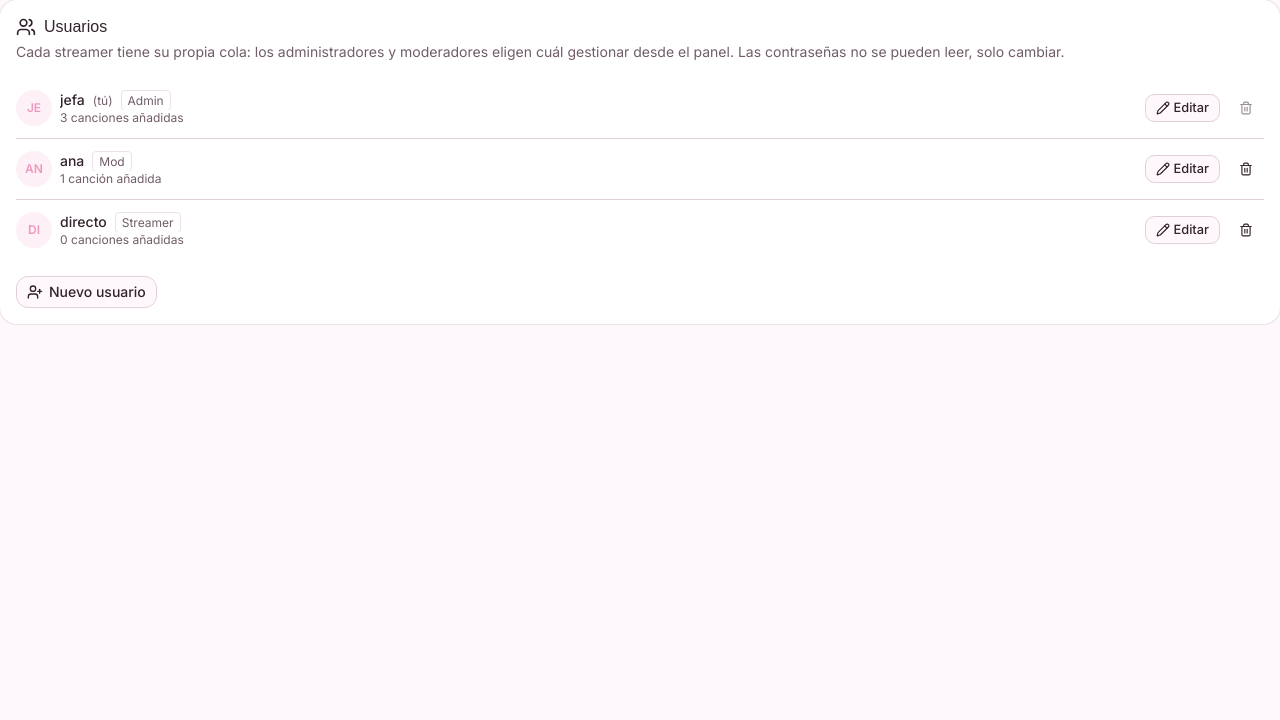
Test case: gestión de usuarios › crea un usuario con el rol elegido y recarga la lista
expect the text "jefa" is shown: met, box [60,91,85,108]
Click the button "Nuevo usuario". click: [86, 292]
box: [16,276,157,308]
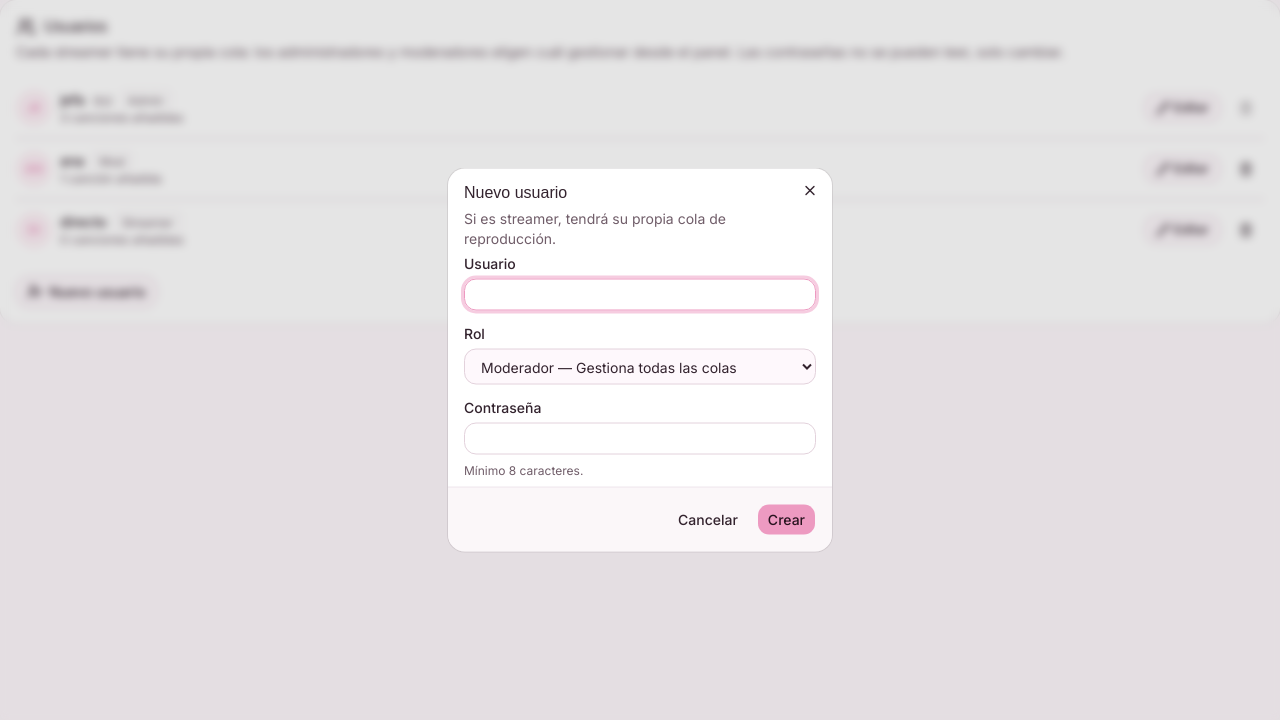
Type "nueva" into the field labelled "Usuario". click: [640, 294]
box: [464,278,816,310]
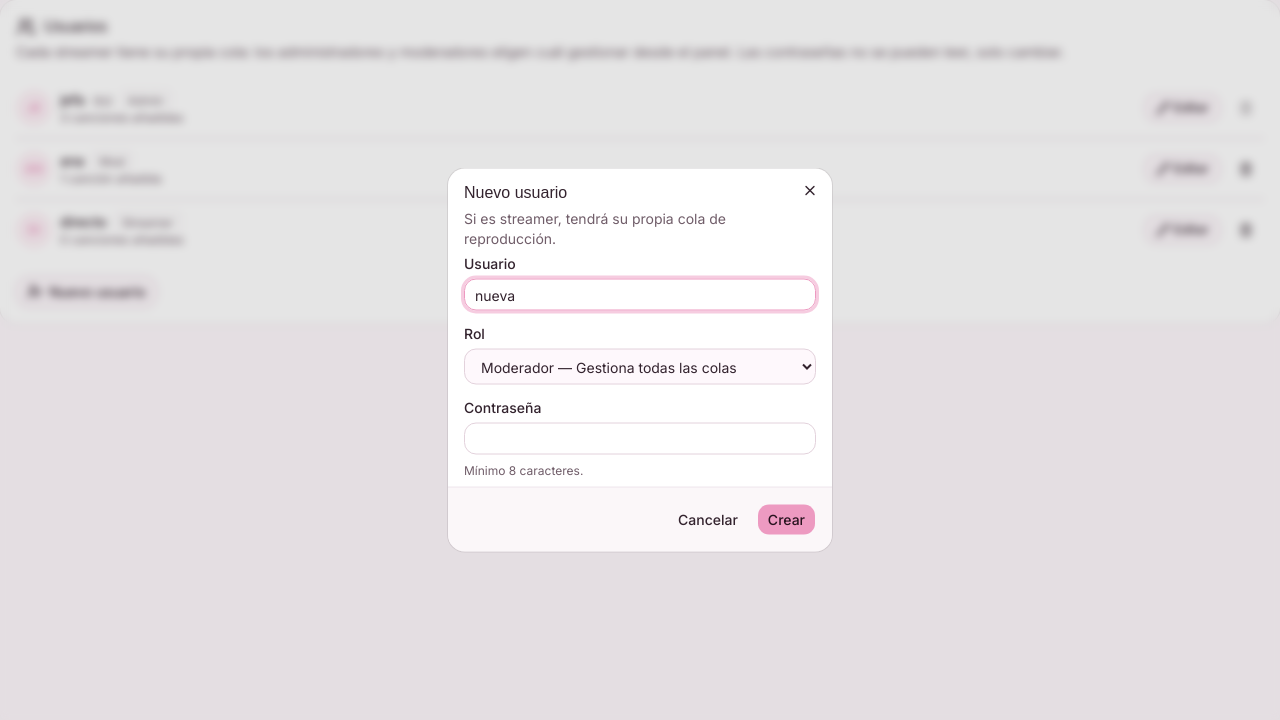
Select "Streamer — Reproduce su propia cola" in the dropdown labelled "Rol". click: [640, 366]
box: [464,348,816,384]
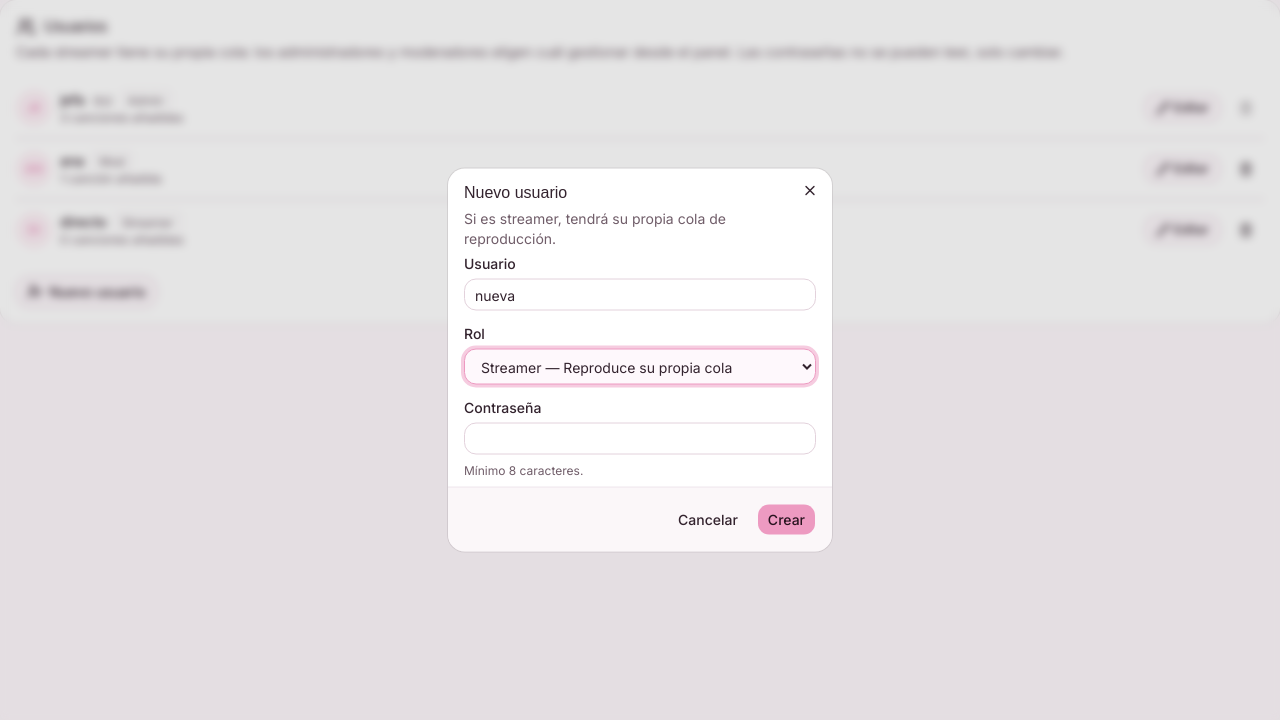
Type "clave-larga" into the password field labelled "Contraseña". click: [640, 438]
box: [464,422,816,454]
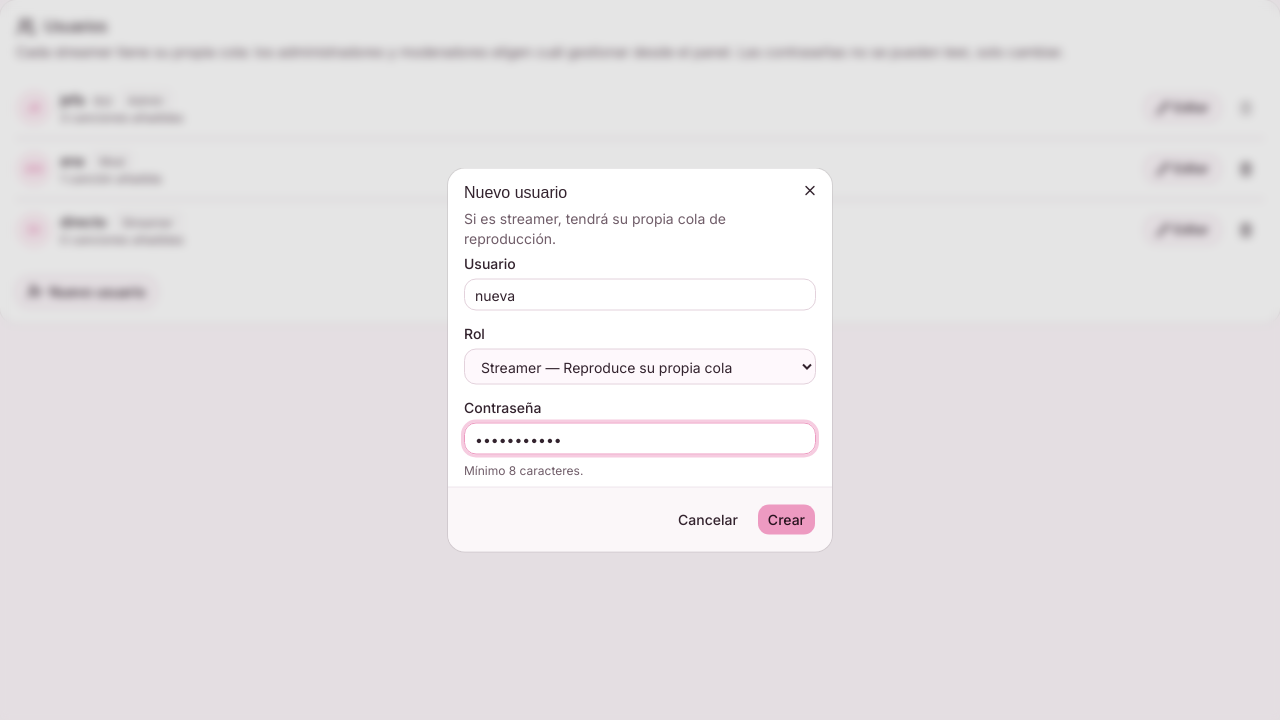
Click the button "Crear". click: [786, 520]
box: [757,504,816,536]
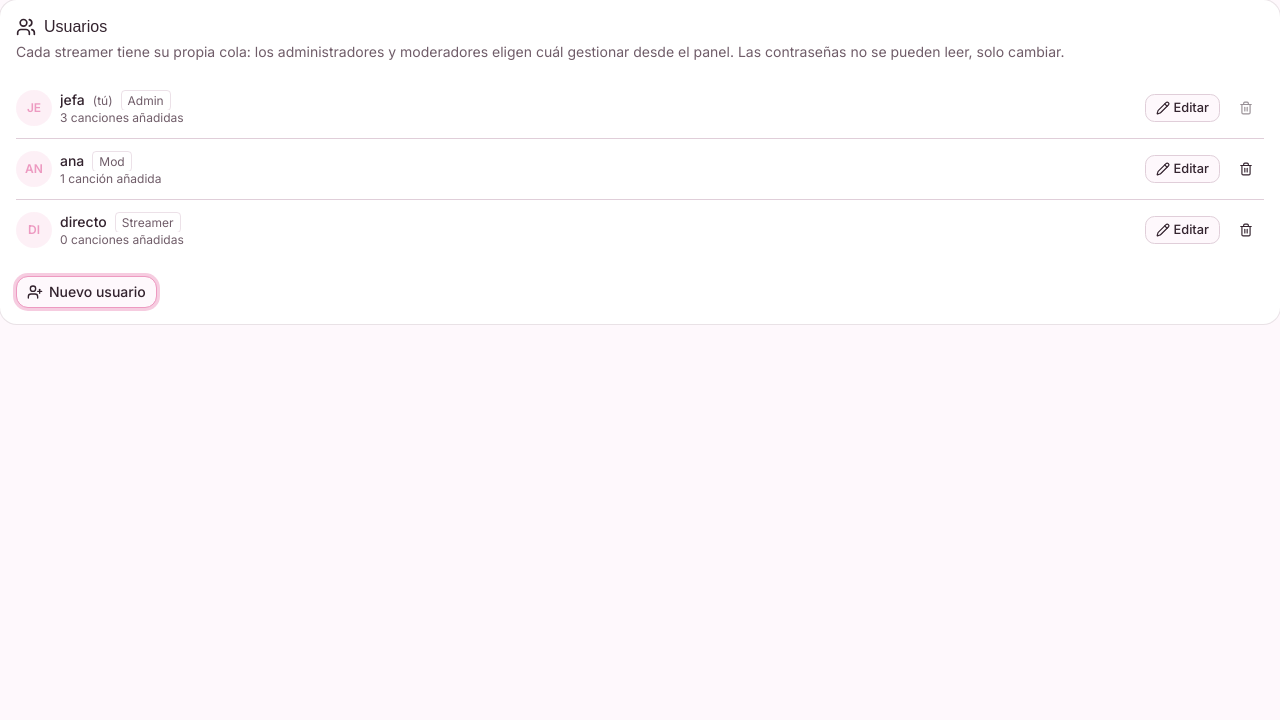
expect the dialog is gone: met
